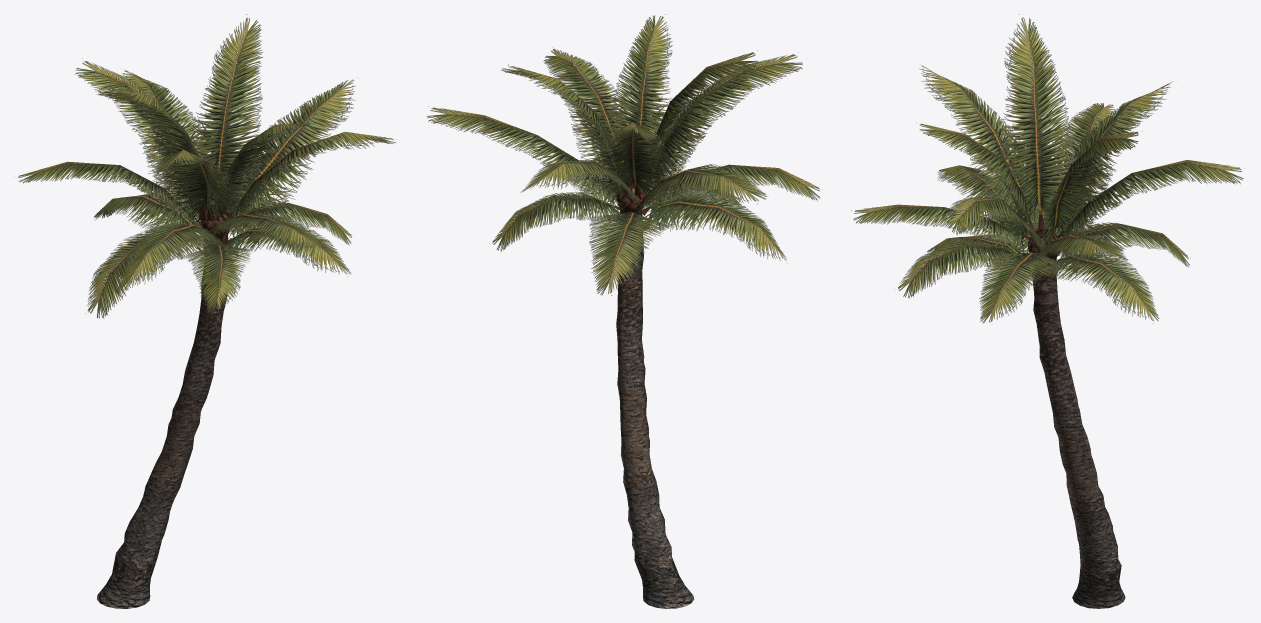
File: tree-6rZJC.glb
3 renders of one model, left to right at view 1: azimuth 30°, elevation 25°; view 2: azimuth 150°, elevation 25°; view 3: azimuth 270°, elevation 25°, orthographic. The views are drawn at different scales.
Parts seen in each view (by area): view 1: leaves_01 - Default_0, bark_01 - Default_0; view 2: leaves_01 - Default_0, bark_01 - Default_0; view 3: leaves_01 - Default_0, bark_01 - Default_0.
Boxes of the visible parts, x1,y1,x2,y2 form: leaves_01 - Default_0: (18, 14, 396, 318); bark_01 - Default_0: (97, 204, 229, 608); leaves_01 - Default_0: (426, 14, 822, 295); bark_01 - Default_0: (616, 181, 694, 608); leaves_01 - Default_0: (851, 14, 1243, 323); bark_01 - Default_0: (1027, 229, 1125, 608).
Size of the model in its own units: 367 by 549 by 353.
Materials: 2 (2 with a texture image).
